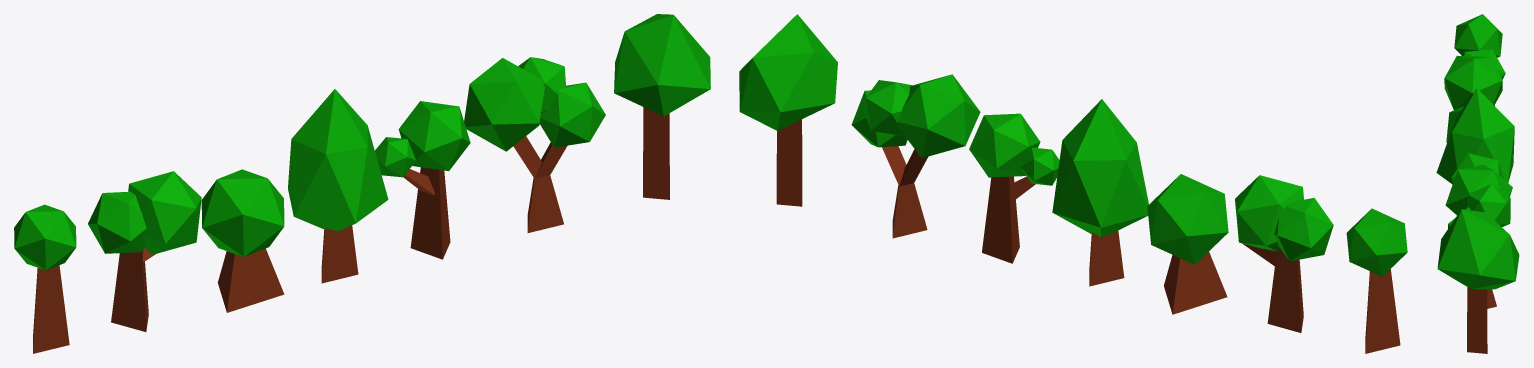
Rendered from trees-lowpoly.obj.
3 renders of one model, left to right at view 1: azimuth 30°, elevation 25°; view 2: azimuth 150°, elevation 25°; view 3: azimuth 270°, elevation 25°, orthographic. The views are drawn at different scales.
Parts seen in each view (by area): view 1: tree.006_Circle.007, tree.008_Circle.011, tree.007_Circle.010, tree.001_Circle.001, tree.003_Circle.003, tree.004_Circle.004, tree_Circle; view 2: tree.008_Circle.011, tree.006_Circle.007, tree.007_Circle.010, tree.001_Circle.001, tree.003_Circle.003, tree.004_Circle.004, tree_Circle; view 3: tree.007_Circle.010, tree.008_Circle.011, tree.006_Circle.007, tree.001_Circle.001, tree_Circle, tree.004_Circle.004, tree.003_Circle.003.
Boxes of the visible parts, x1,y1,x2,y2 form: tree.006_Circle.007: (464, 57, 605, 232); tree.008_Circle.011: (288, 89, 388, 283); tree.007_Circle.010: (614, 14, 710, 199); tree.001_Circle.001: (88, 171, 201, 331); tree.003_Circle.003: (201, 169, 284, 312); tree.004_Circle.004: (375, 101, 470, 259); tree_Circle: (14, 204, 76, 353); tree.008_Circle.011: (1052, 99, 1148, 286); tree.006_Circle.007: (851, 74, 980, 238); tree.007_Circle.010: (739, 14, 837, 206); tree.001_Circle.001: (1235, 175, 1333, 332); tree.003_Circle.003: (1147, 174, 1228, 314); tree.004_Circle.004: (969, 113, 1059, 263); tree_Circle: (1346, 208, 1407, 353); tree.007_Circle.010: (1437, 209, 1519, 353); tree.008_Circle.011: (1436, 88, 1514, 184); tree.006_Circle.007: (1445, 164, 1512, 308); tree.001_Circle.001: (1444, 49, 1505, 109); tree_Circle: (1454, 14, 1502, 105); tree.004_Circle.004: (1451, 153, 1504, 182); tree.003_Circle.003: (1446, 105, 1464, 142).
Size of the model in its own units: 32.94 by 8.48 by 4.46.
